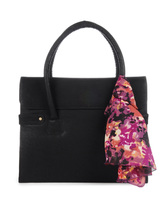bag: (14, 19, 158, 188)
